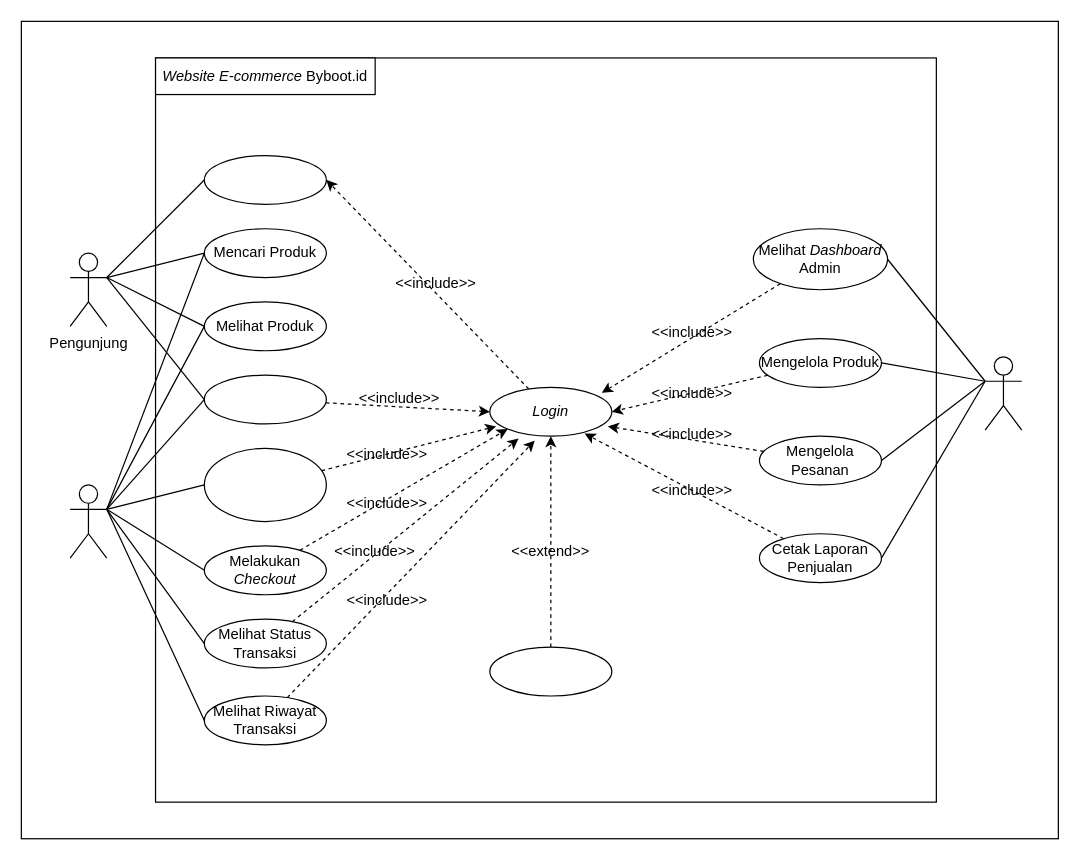
Image size: 1080x860. Some labels were removed from this diagram. Here are the shapes that lost their labels. From the top down, the box of each, then its label:
(203, 154, 326, 204): Register
(203, 374, 326, 424): Melihat Detail Produk
(984, 356, 1022, 430): Admin
(203, 447, 326, 522): Menambah Produk Ke Keranjang
(69, 484, 107, 558): Pelanggan
(489, 646, 612, 696): Logout
